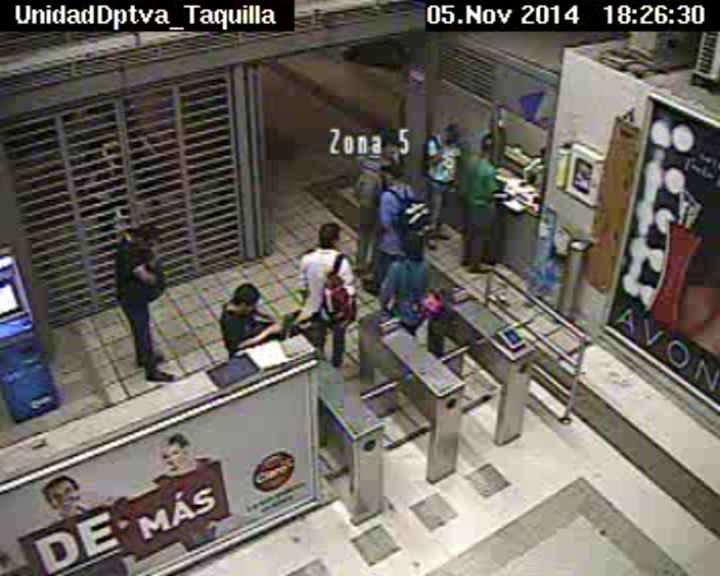person: (231, 282, 264, 317), (131, 220, 161, 255), (315, 219, 343, 251), (435, 119, 461, 149), (401, 235, 427, 262), (381, 165, 407, 191), (474, 131, 498, 159), (367, 134, 391, 156)
